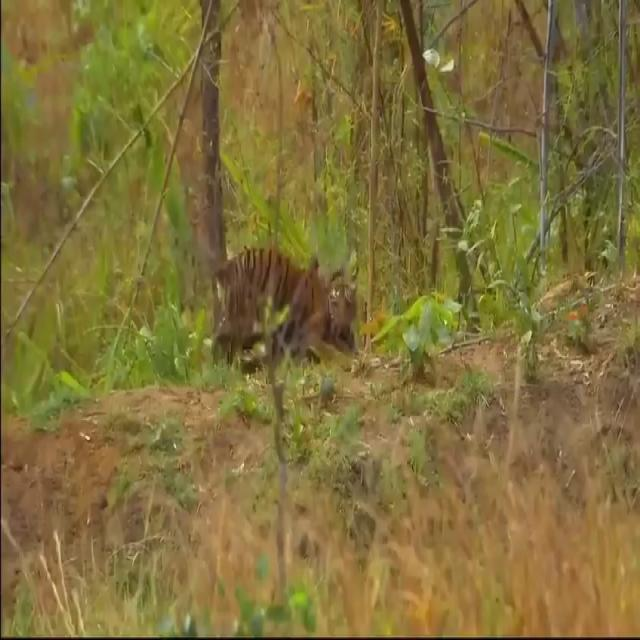tiger: (213, 246, 357, 360)
